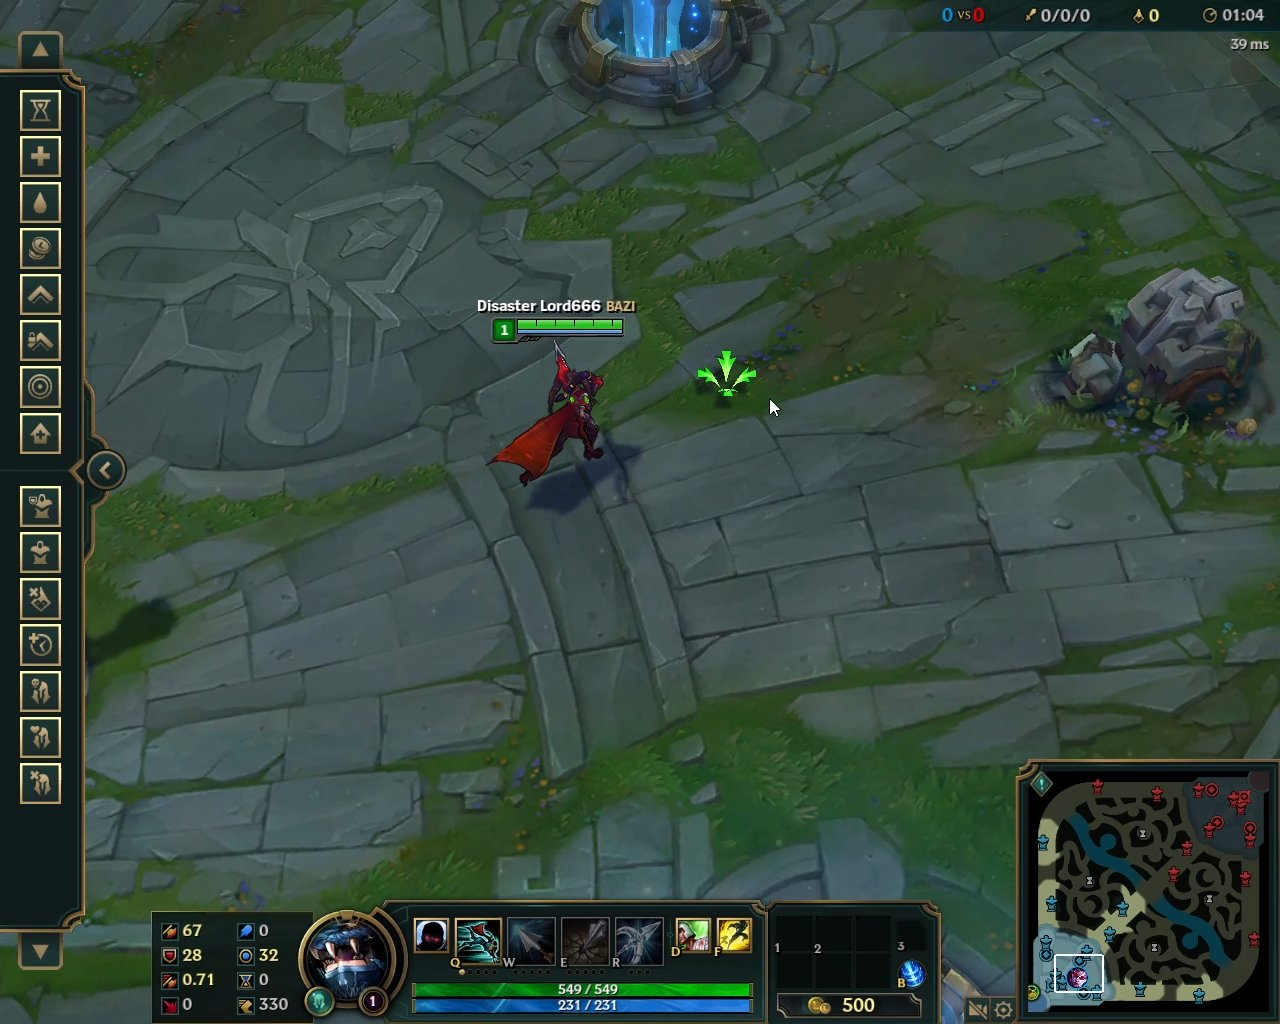Vayne: (480, 339, 615, 493)
